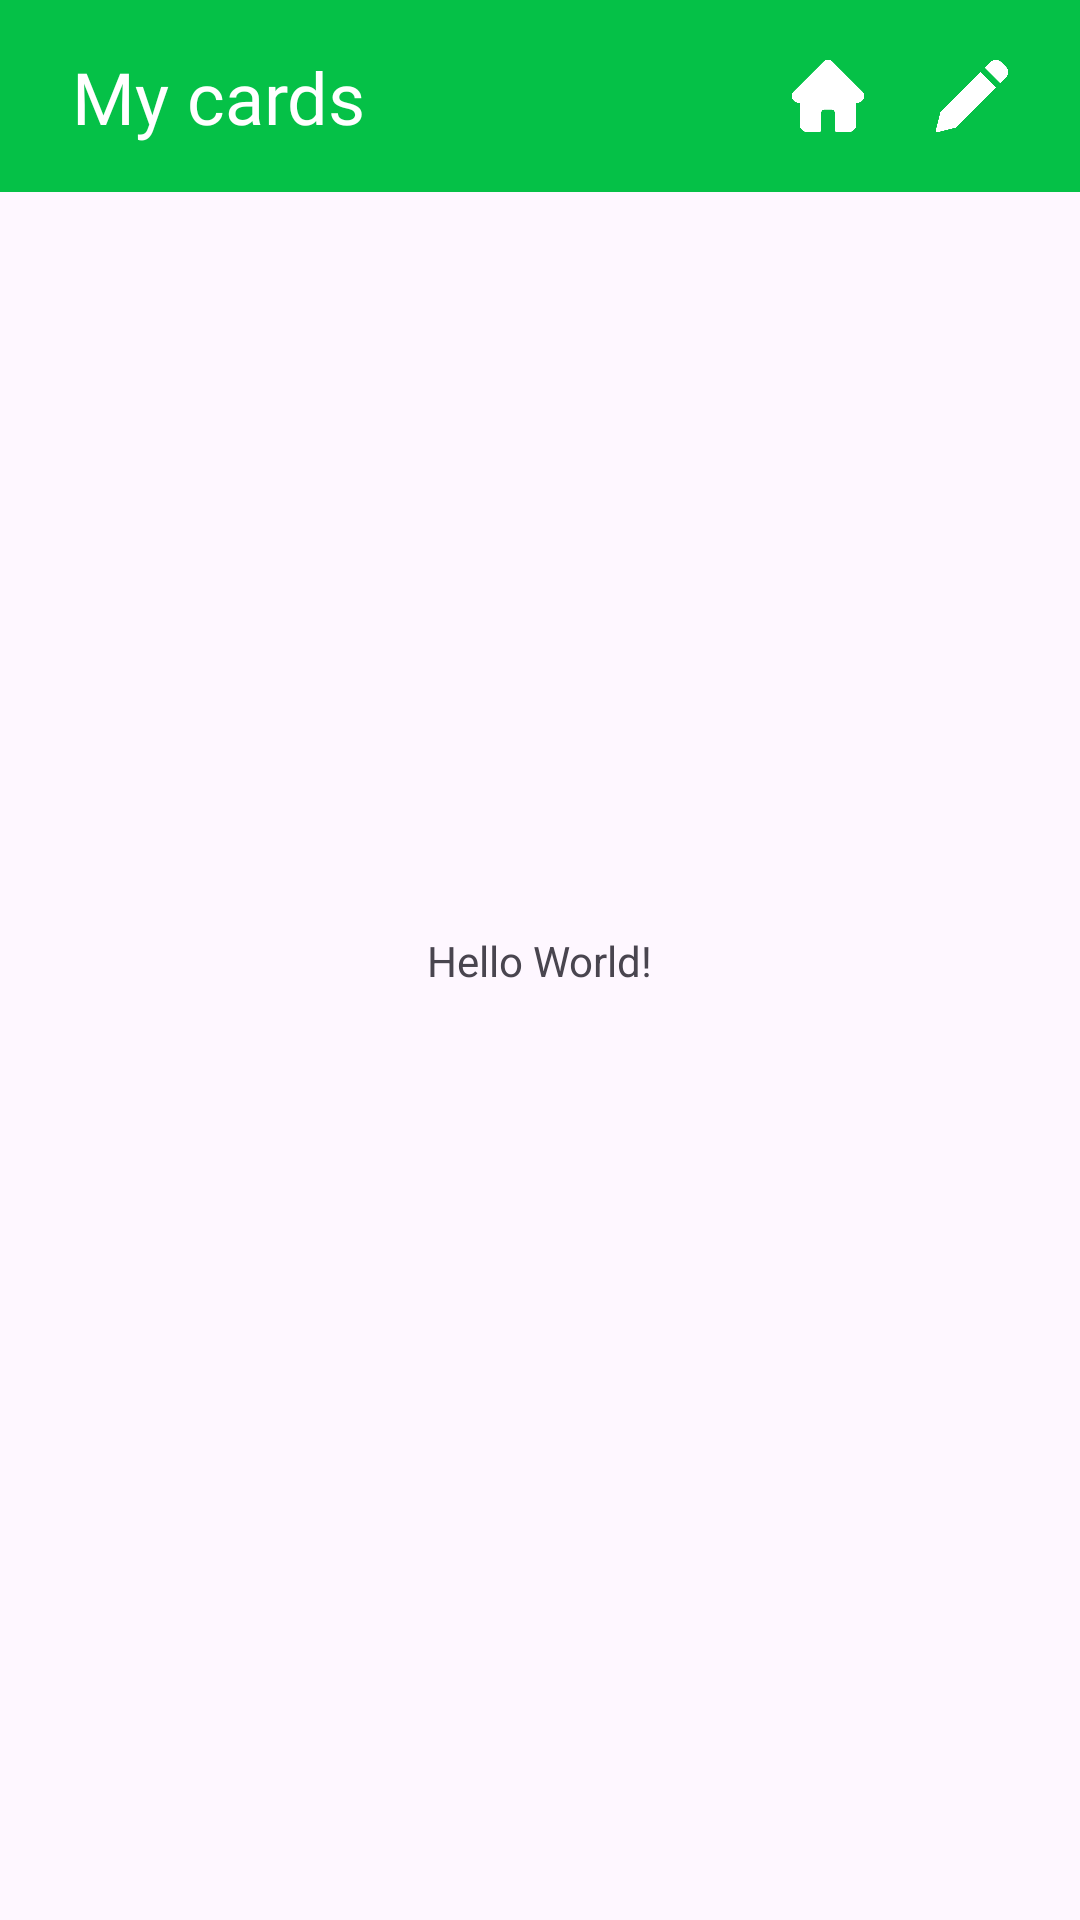

Icon bounding boxes for this 1080 × 1920 phone screenshot, format (x1, y1, x2, y2):
home: (792, 60, 864, 132)
pencil: (936, 60, 1008, 132)
